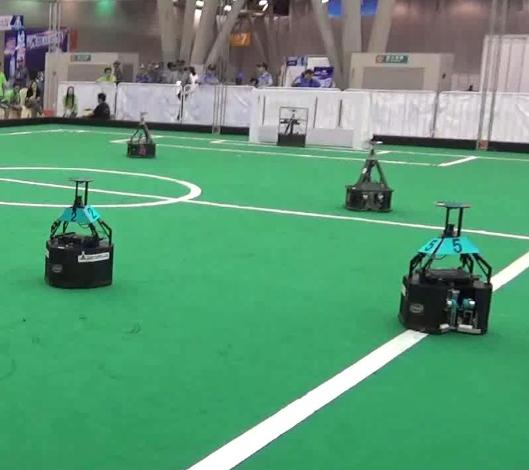robot: (398, 193, 494, 337), (37, 172, 120, 290), (340, 136, 397, 213)
